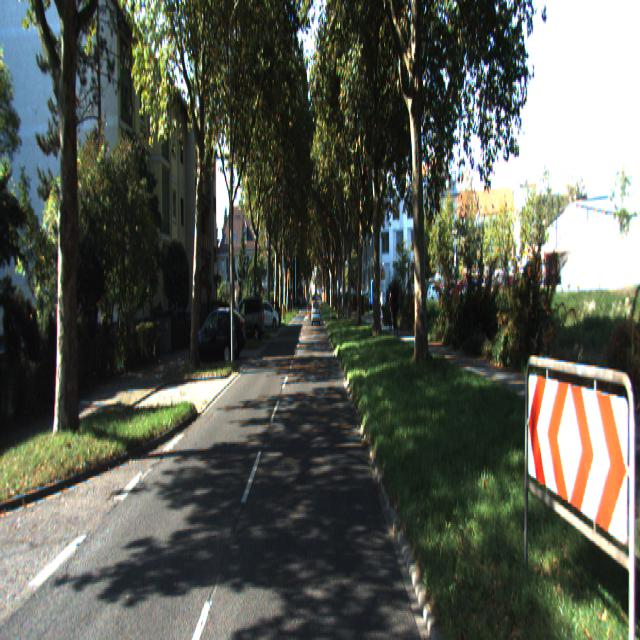Car: (190, 303, 240, 364)
